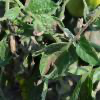Tomato leaf late blight: (37, 42, 70, 83), (28, 8, 64, 39)
